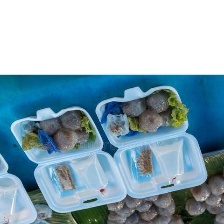foam_box: (92, 82, 211, 201), (8, 103, 130, 215), (0, 148, 40, 223)
